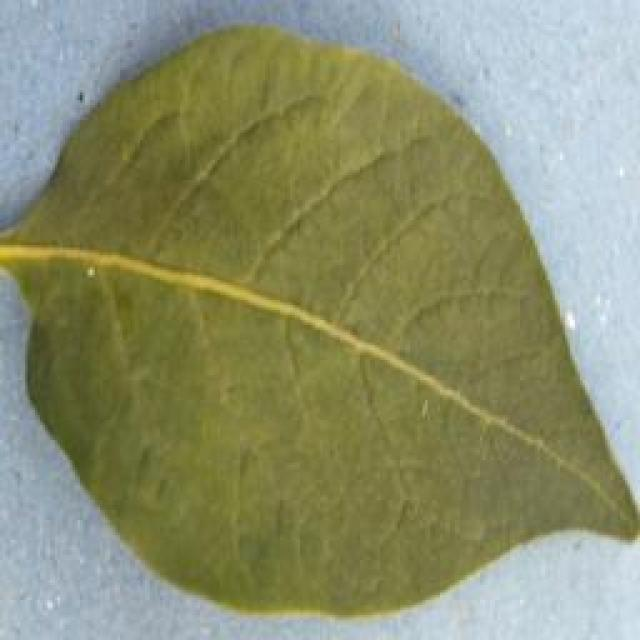Potato_Healthy: (10, 0, 637, 626)
